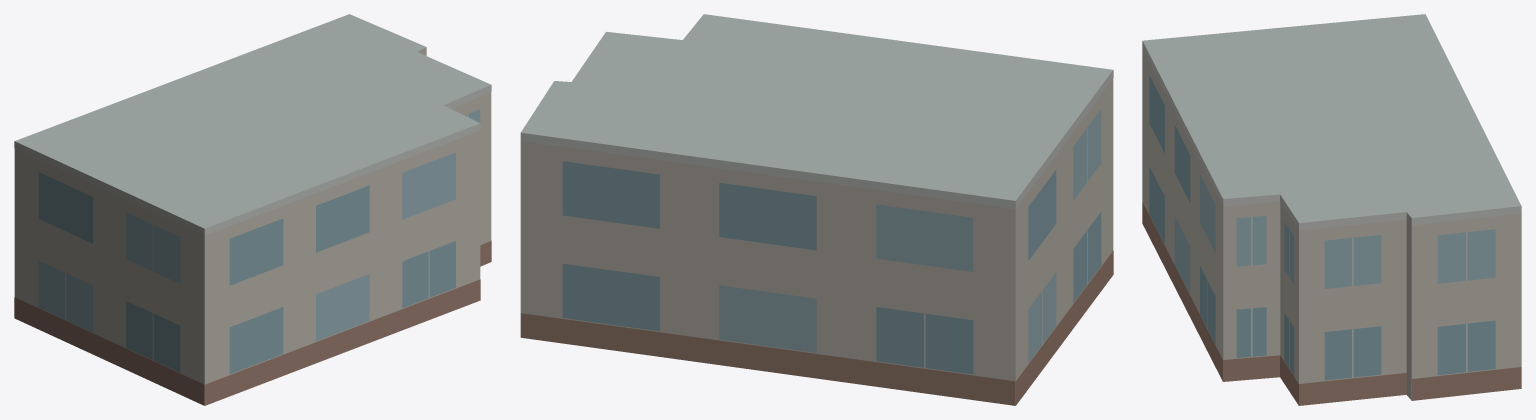
File: survey-upis-32947428.glb
The picture shows the model from 3 angles, left to right: view 1: azimuth 30°, elevation 25°; view 2: azimuth 150°, elevation 25°; view 3: azimuth 270°, elevation 25°; orthographic projection. The views are drawn at different scales.
Visible parts, largest first — view 1: survey-upis-32947428.tmp; view 2: survey-upis-32947428.tmp; view 3: survey-upis-32947428.tmp.
Boxes of the visible parts, bbox=[...] form: survey-upis-32947428.tmp: bbox=[14, 14, 491, 405]; survey-upis-32947428.tmp: bbox=[520, 14, 1113, 405]; survey-upis-32947428.tmp: bbox=[1142, 14, 1521, 405].
Bounding box in the file's own units: 14.98 × 6.1 × 11.48.
